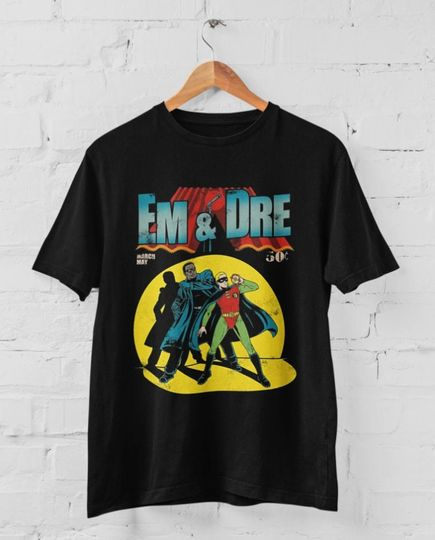design: (131, 181, 301, 396)
